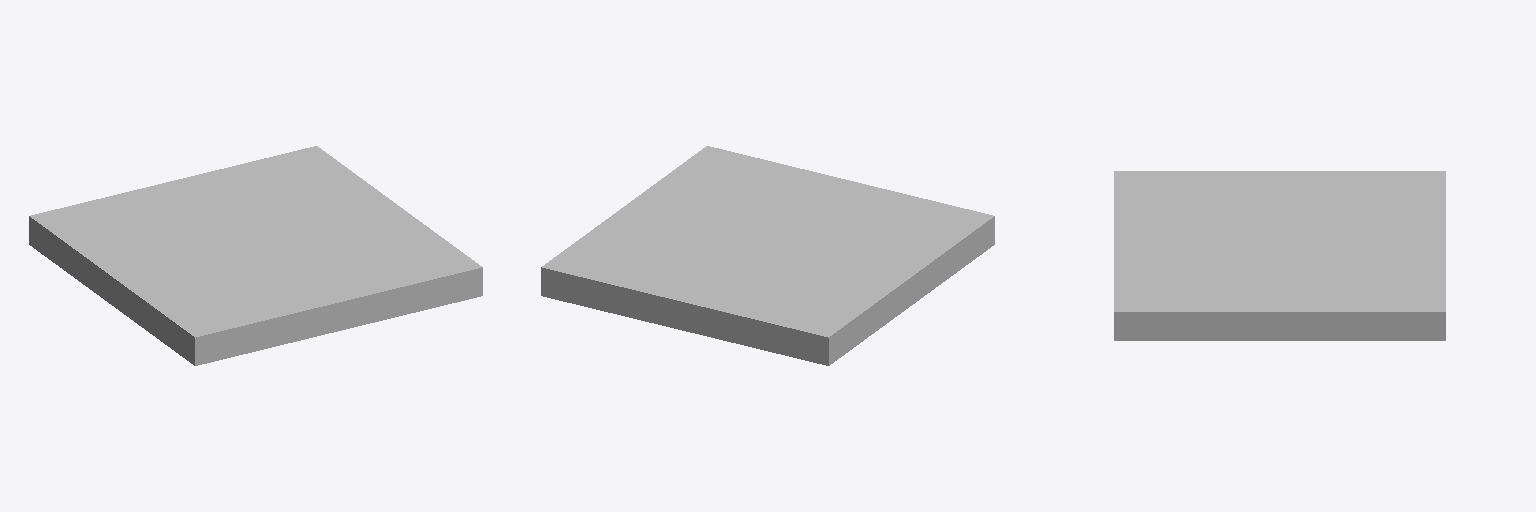
Rendered from map3.obj.
The picture shows the model from 3 angles: view 1: azimuth 30°, elevation 25°; view 2: azimuth 150°, elevation 25°; view 3: azimuth 270°, elevation 25°; orthographic projection.
Parts seen in each view (by area): view 1: object 1; view 2: object 1; view 3: object 1.
Part boxes in pixels (left/top/right/bottom): object 1: left=29, top=146, right=482, bottom=365; object 1: left=541, top=146, right=994, bottom=365; object 1: left=1114, top=171, right=1445, bottom=340.
Bounding box in the file's own units: 12.6 × 1.2 × 12.6.